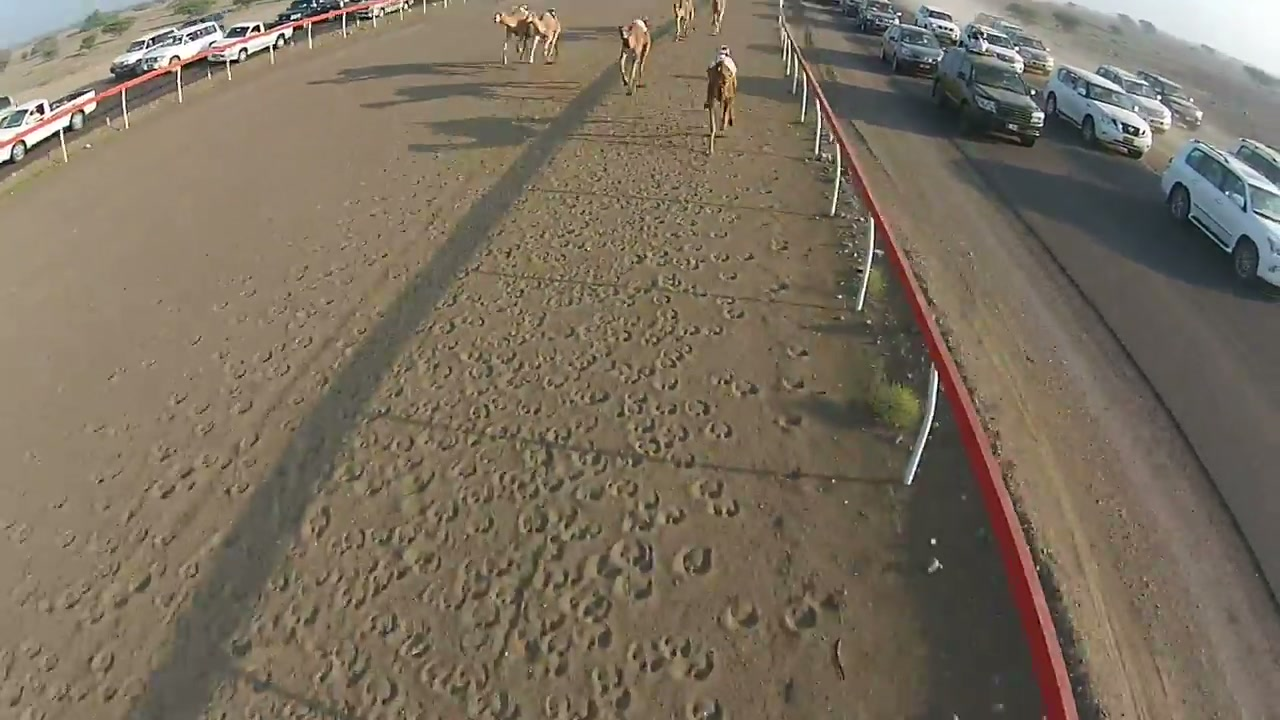animal_footprint: (21, 138, 844, 719), (584, 539, 655, 602), (0, 646, 115, 679), (515, 604, 569, 654), (511, 465, 585, 501), (392, 528, 446, 577), (488, 469, 543, 512), (514, 468, 585, 500), (431, 661, 493, 697), (588, 664, 632, 711), (667, 638, 715, 681), (690, 478, 740, 517), (329, 639, 370, 685), (561, 589, 613, 622), (608, 538, 655, 574), (548, 503, 593, 540), (466, 689, 520, 719), (527, 645, 572, 680), (280, 597, 320, 636), (626, 640, 670, 675), (542, 693, 599, 719), (460, 596, 503, 629), (782, 596, 820, 632), (531, 568, 577, 597), (612, 573, 654, 604), (721, 597, 759, 631), (54, 579, 94, 611), (455, 482, 496, 513), (362, 673, 400, 706), (548, 521, 603, 543), (710, 372, 758, 397), (581, 553, 625, 580), (418, 659, 452, 693), (573, 623, 614, 651), (675, 546, 712, 576), (623, 503, 658, 534), (397, 630, 432, 661), (423, 498, 459, 528), (569, 449, 610, 475), (100, 675, 143, 699), (517, 504, 549, 534), (520, 441, 554, 469), (347, 473, 387, 496), (600, 687, 634, 714), (396, 471, 434, 495), (656, 423, 691, 449), (465, 362, 496, 391), (630, 490, 662, 518), (364, 524, 404, 546), (684, 698, 724, 719), (397, 494, 430, 518), (572, 479, 605, 503), (650, 307, 681, 332), (333, 460, 365, 484), (566, 350, 600, 372), (618, 393, 650, 416), (690, 478, 725, 499), (642, 325, 675, 347), (567, 414, 600, 436), (705, 498, 741, 518), (570, 387, 610, 405), (602, 322, 633, 345), (605, 477, 639, 497), (717, 297, 746, 319), (655, 349, 685, 370), (633, 436, 663, 457), (654, 634, 679, 659), (465, 515, 495, 535), (657, 505, 687, 525), (148, 479, 177, 499), (705, 420, 733, 440), (730, 379, 759, 397), (469, 401, 493, 422), (673, 256, 703, 272), (542, 372, 570, 389), (775, 412, 801, 430), (178, 559, 200, 580), (679, 323, 709, 338), (653, 374, 679, 391), (781, 375, 806, 391), (653, 401, 679, 416), (230, 398, 253, 414), (680, 242, 704, 257), (723, 305, 746, 320), (767, 280, 790, 294), (786, 345, 809, 358), (650, 292, 672, 305), (704, 324, 725, 337), (710, 251, 731, 262), (718, 270, 738, 281), (707, 230, 729, 239), (739, 251, 755, 262)
